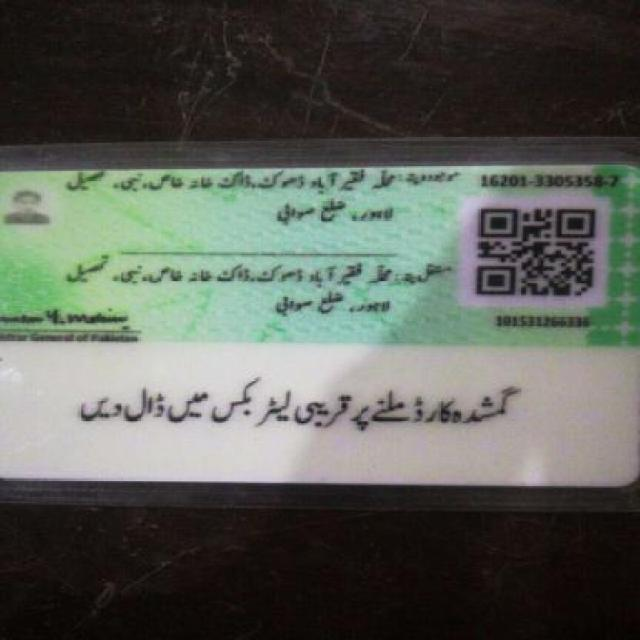Back: (1, 155, 632, 491)
